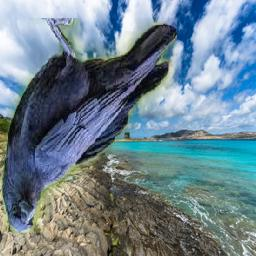Crow: (1, 19, 177, 234)
